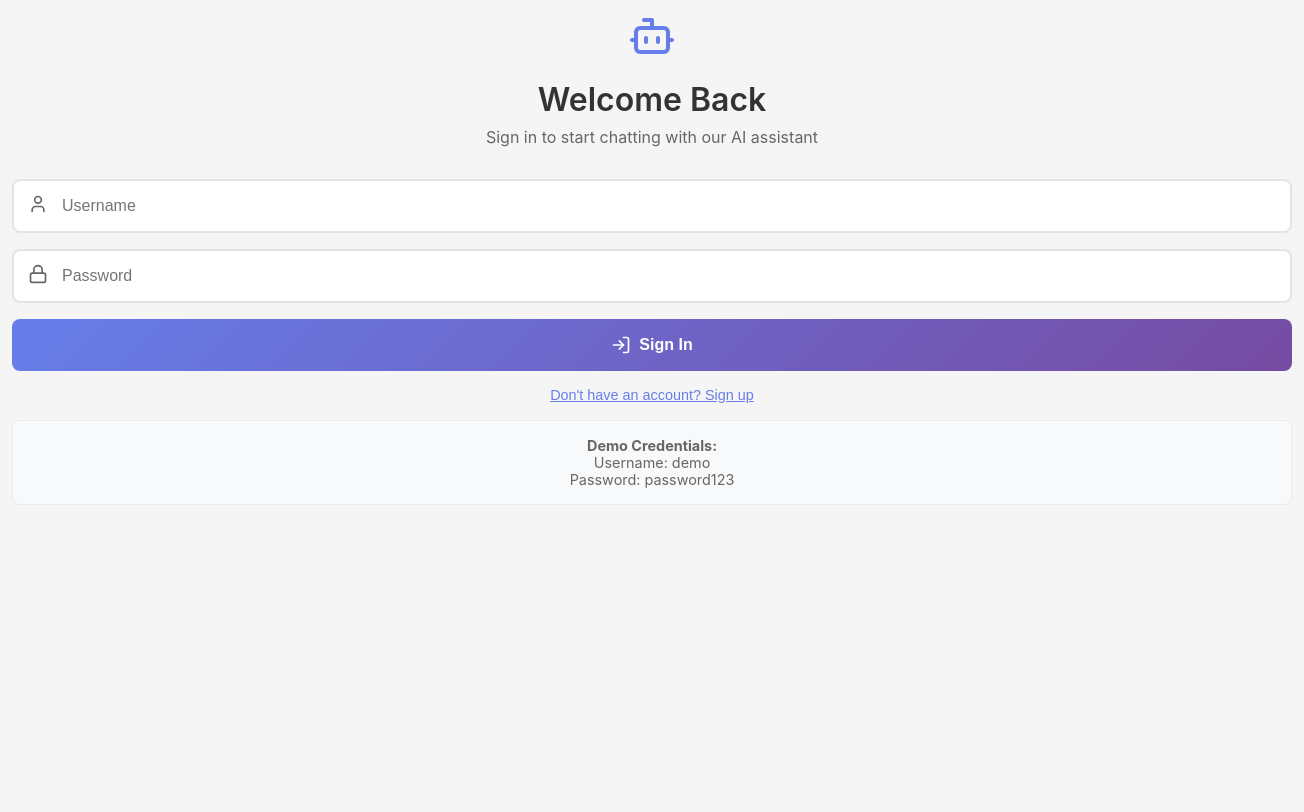
Test: LoginForm › displays network error message
Type "testuser" into the field with placeholder "Username" at (652,206), box [12, 179, 1292, 233]
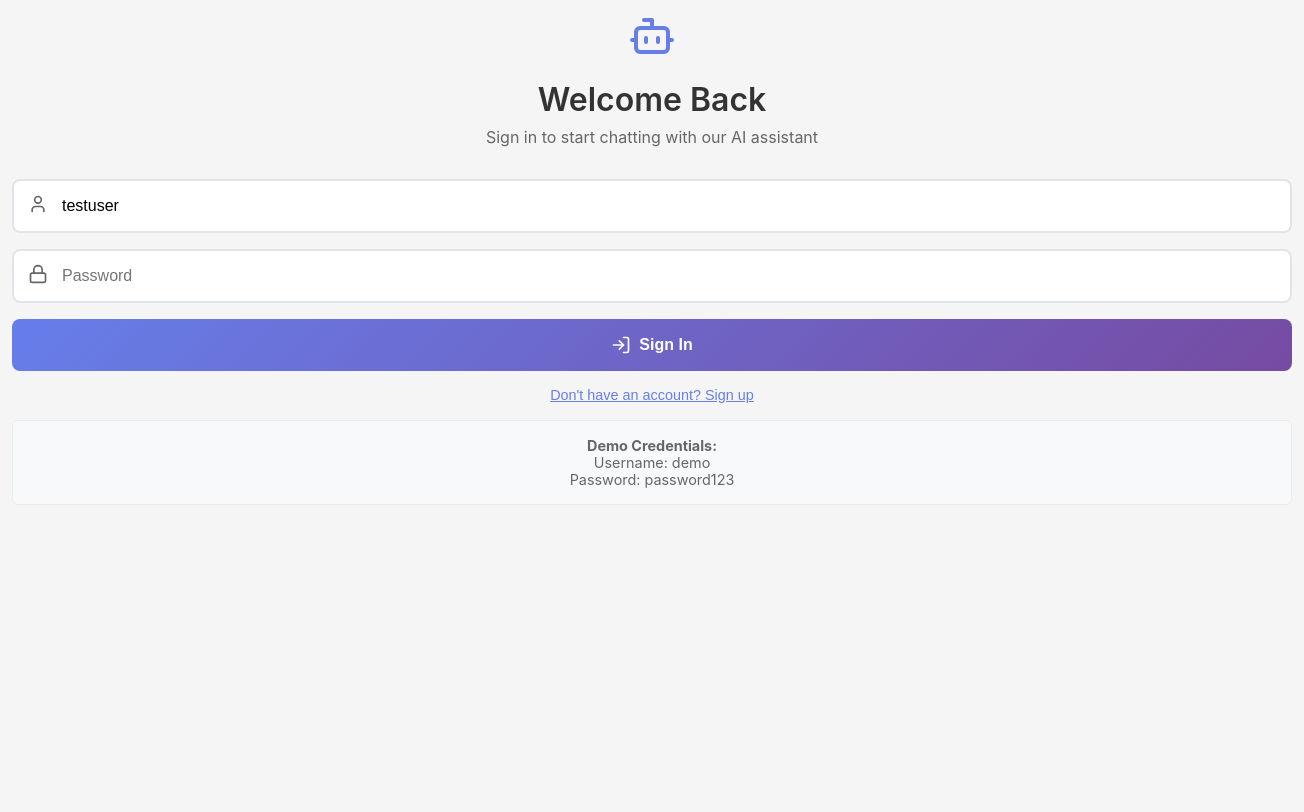
Type "password123" into the password field with placeholder "Password" at (652,276), box [12, 249, 1292, 303]
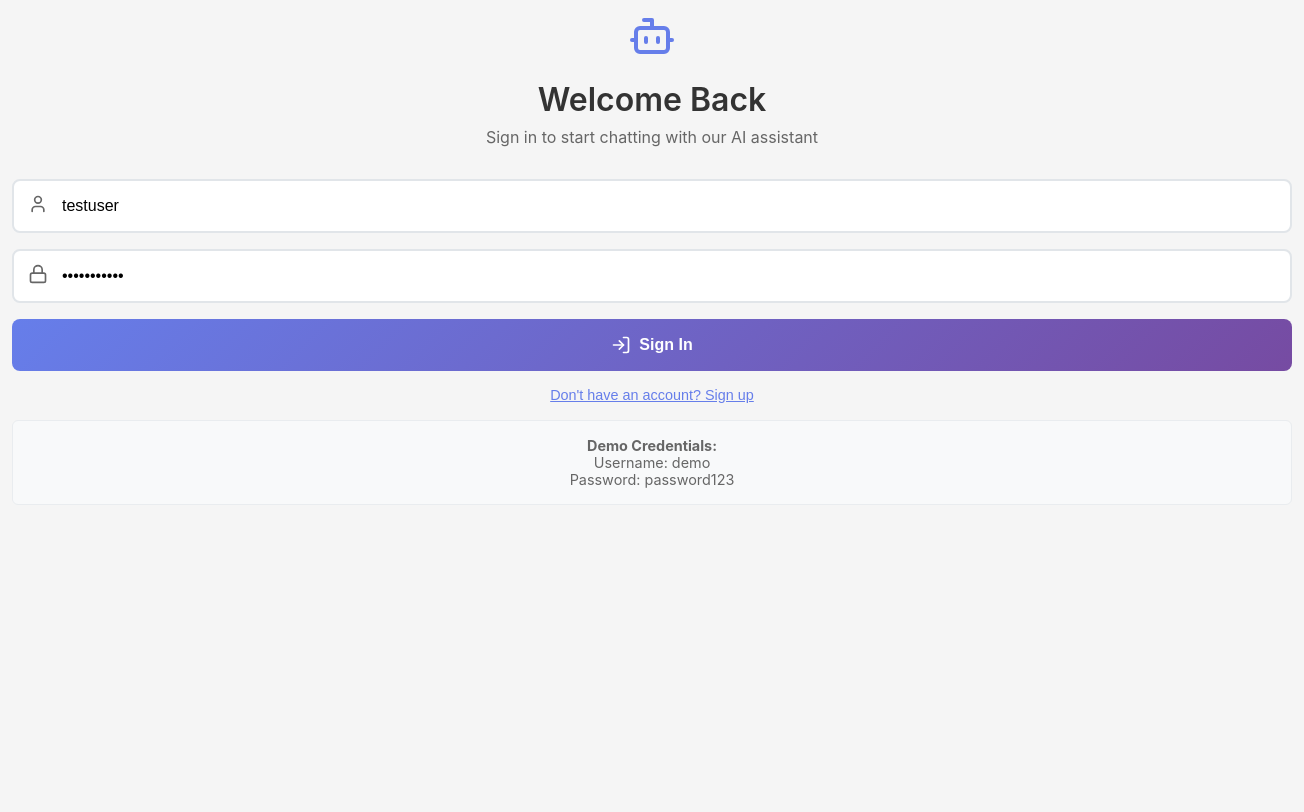
Click the button "Sign In" at (652,345), box [12, 319, 1292, 371]
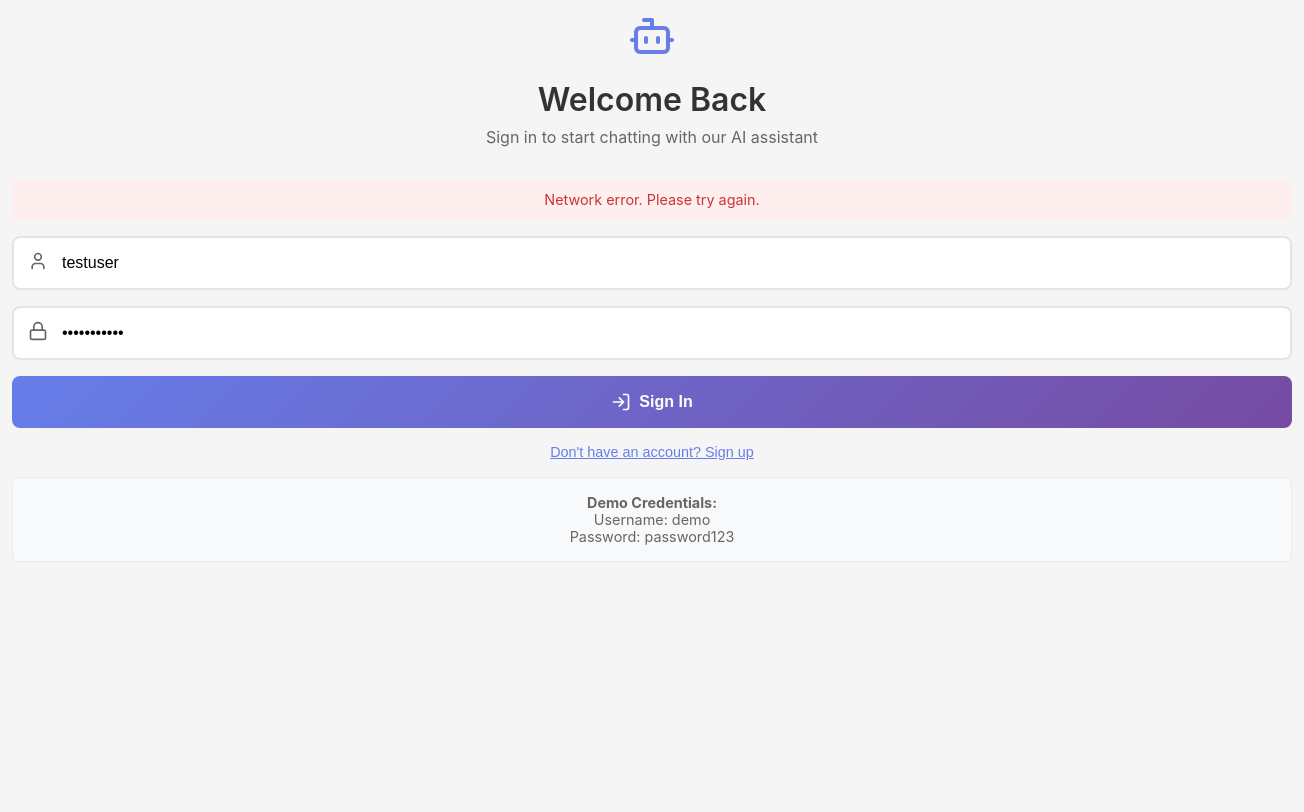
Expected: the text "Network error. Please try again." is shown, [12, 179, 1292, 220]
